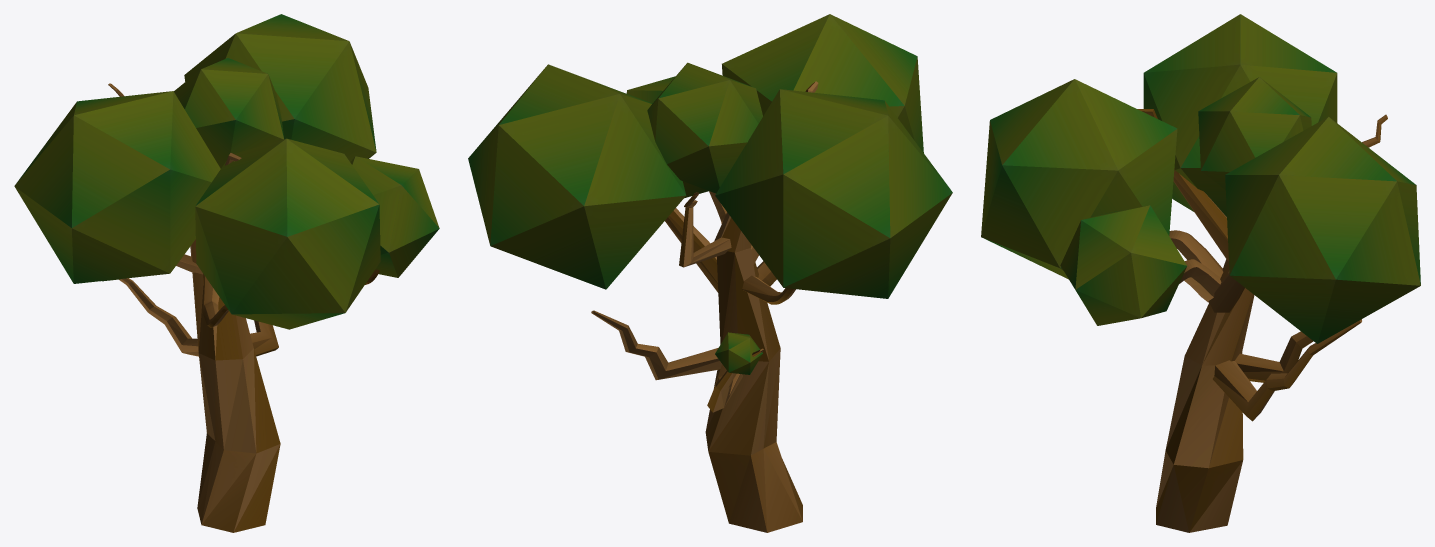
The model's file is 4seasons_tree_oak.FBX.
The picture shows the model from 3 angles, left to right: view 1: azimuth 30°, elevation 25°; view 2: azimuth 150°, elevation 25°; view 3: azimuth 270°, elevation 25°; orthographic projection. The views are drawn at different scales.
Parts seen in each view (by area): view 1: 4seasons_tree_oak; view 2: 4seasons_tree_oak; view 3: 4seasons_tree_oak.
Part boxes in pixels (x1,y1,x2,y2): 4seasons_tree_oak: (14, 14, 439, 532); 4seasons_tree_oak: (468, 14, 952, 532); 4seasons_tree_oak: (981, 14, 1420, 532).
Size of the model in its own units: 209 by 228 by 206.
